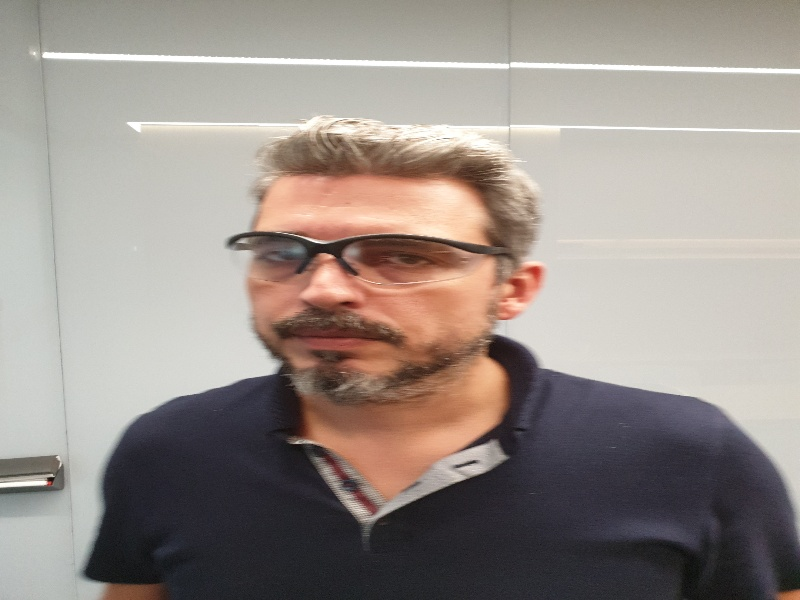Gozluk: (226, 231, 514, 292)
